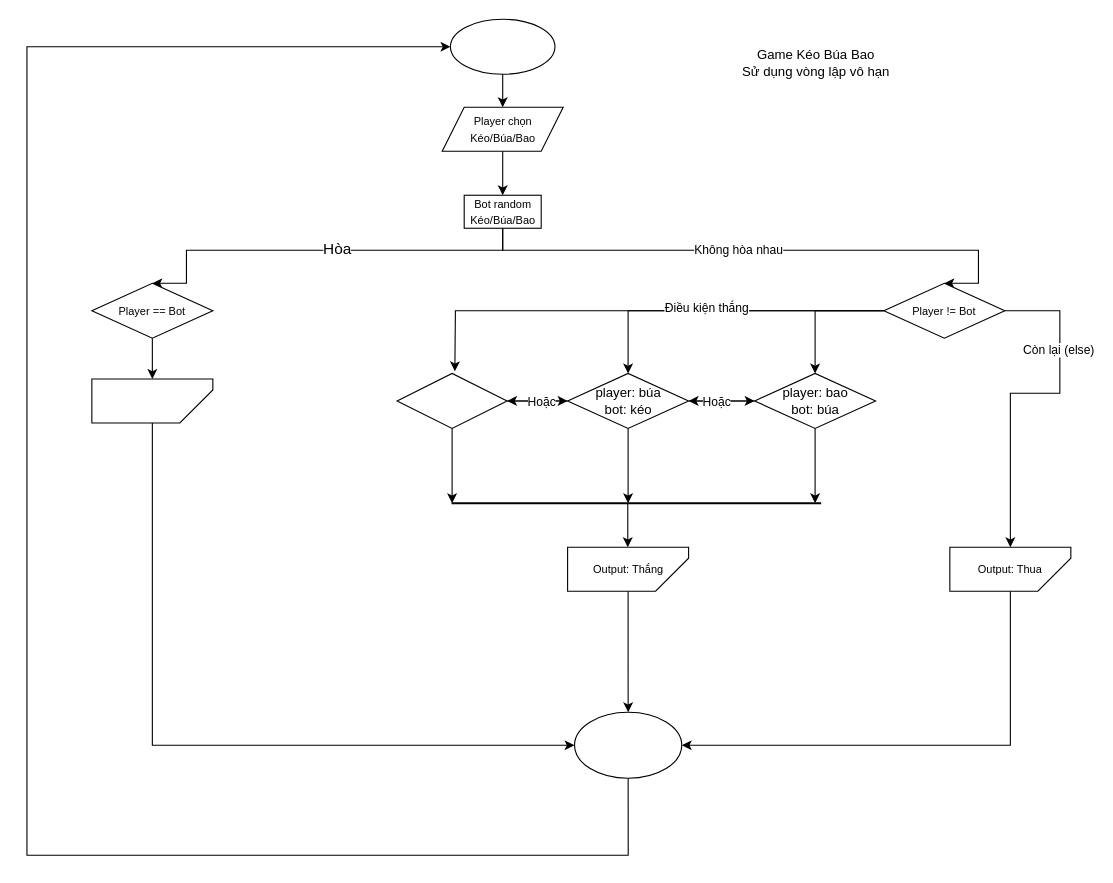
This 1113x883 diagram has some shape labels left out. The box of each missing label's shape, as (x1, y1, x2, y2) in pixels:
Game Kéo Búa Bao: (449, 18, 555, 74)
Kết thúc: (573, 711, 682, 778)
Output: Hòa nhau: (91, 378, 213, 423)
player: kéo bot: bao: (396, 372, 507, 428)
